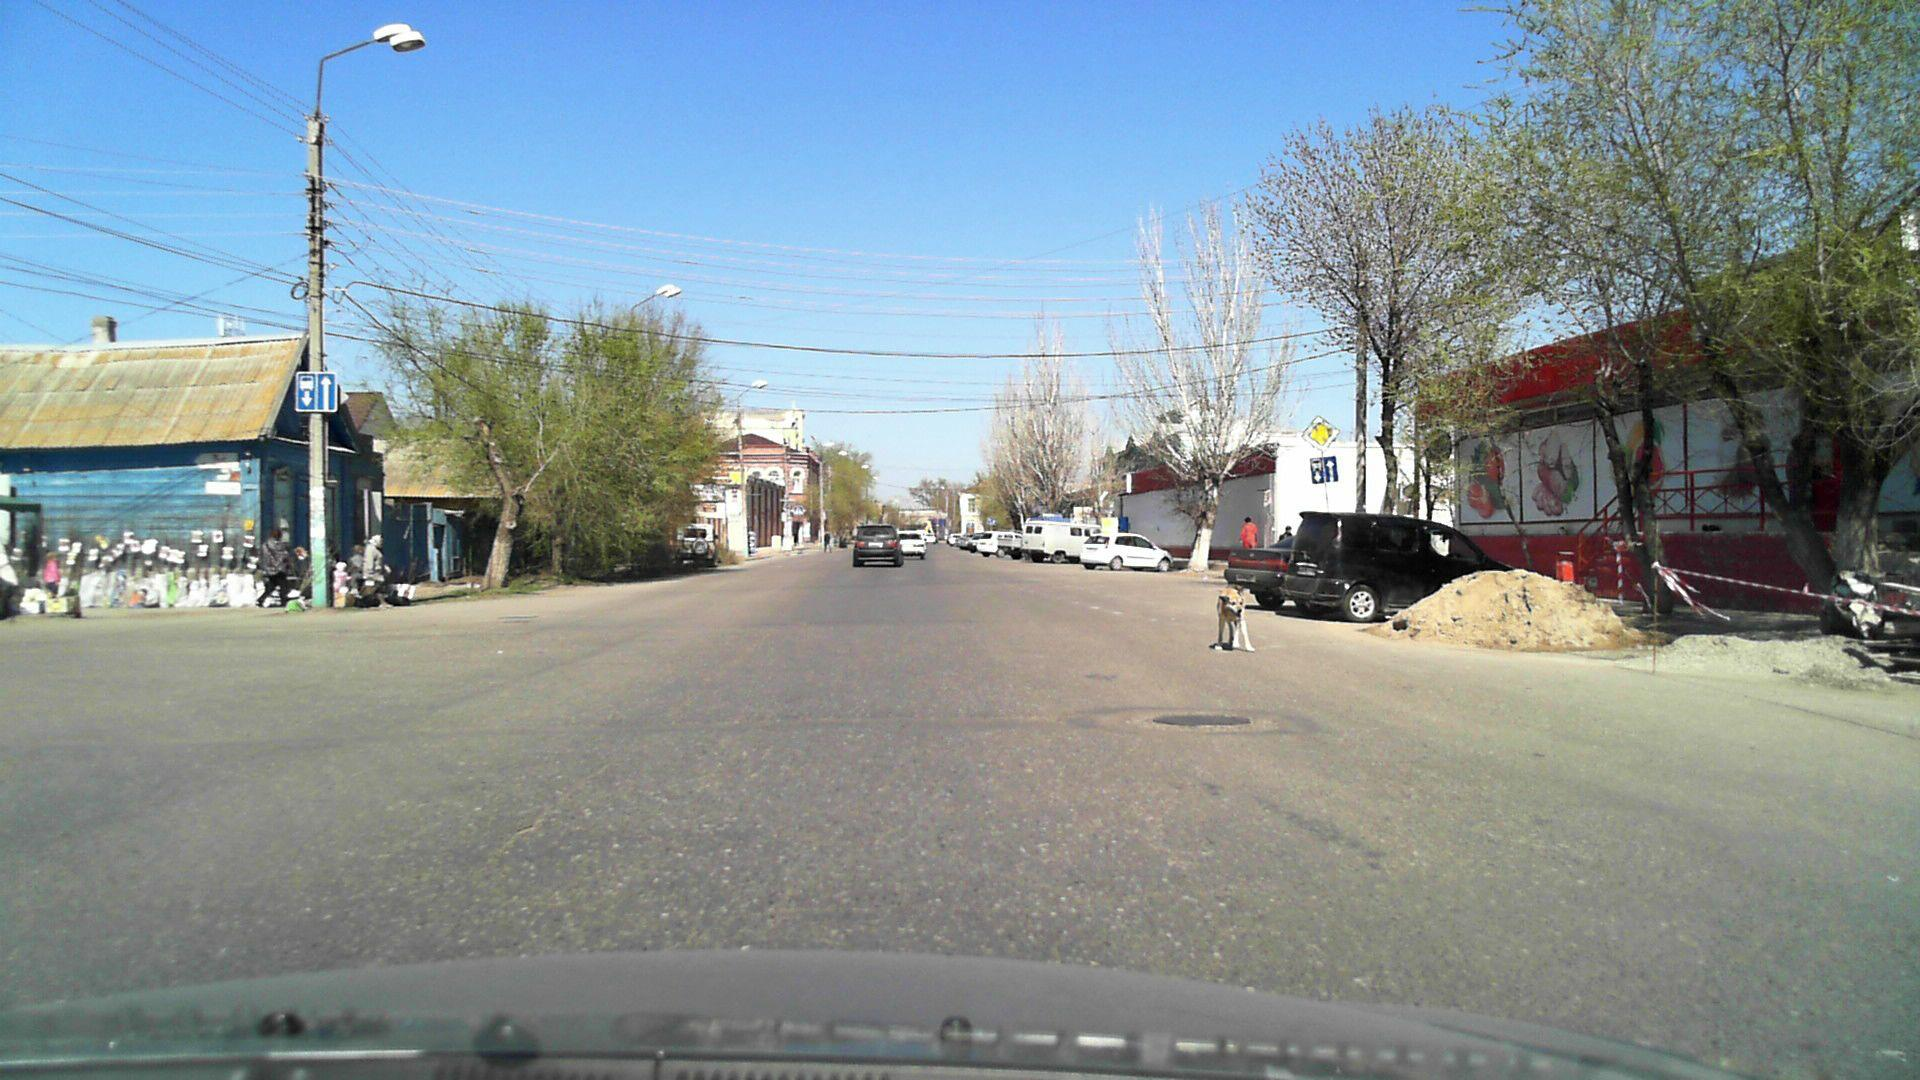2_1: (1302, 415, 1340, 447)
5_11_1: (291, 371, 339, 414), (1309, 456, 1338, 484)
